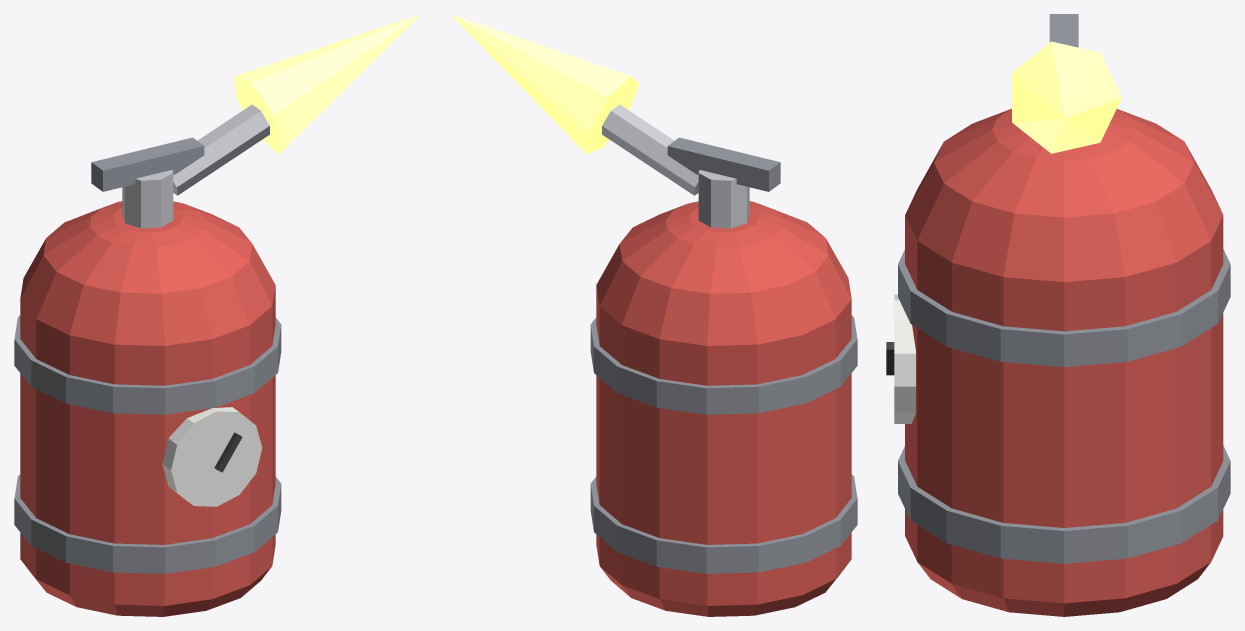
Rendered from item_ignition.glb.
The picture shows the model from 3 angles, left to right: view 1: azimuth 30°, elevation 25°; view 2: azimuth 150°, elevation 25°; view 3: azimuth 270°, elevation 25°; orthographic projection. The views are drawn at different scales.
Visible parts, largest first — view 1: item_ignition; view 2: item_ignition; view 3: item_ignition.
Boxes of the visible parts, box(x1,y1,x2,y2) form: item_ignition: box(14, 14, 420, 616); item_ignition: box(451, 14, 857, 616); item_ignition: box(886, 14, 1230, 616).
Bounding box in the file's own units: 0.7697 × 0.9183 × 0.476.
